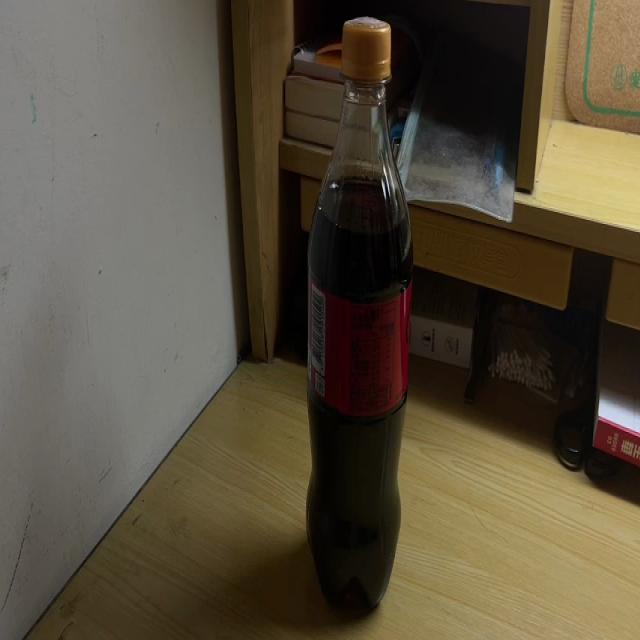Coca-Cola: (308, 17, 414, 611)
